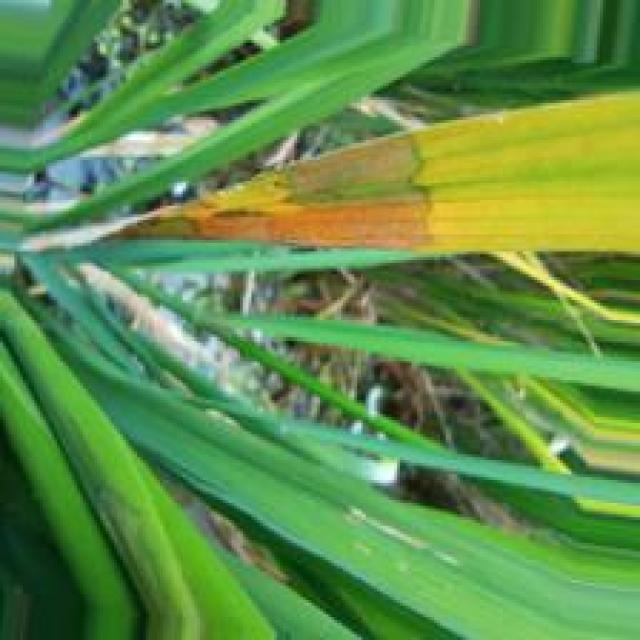Leaf_Scald: (105, 124, 443, 250)
